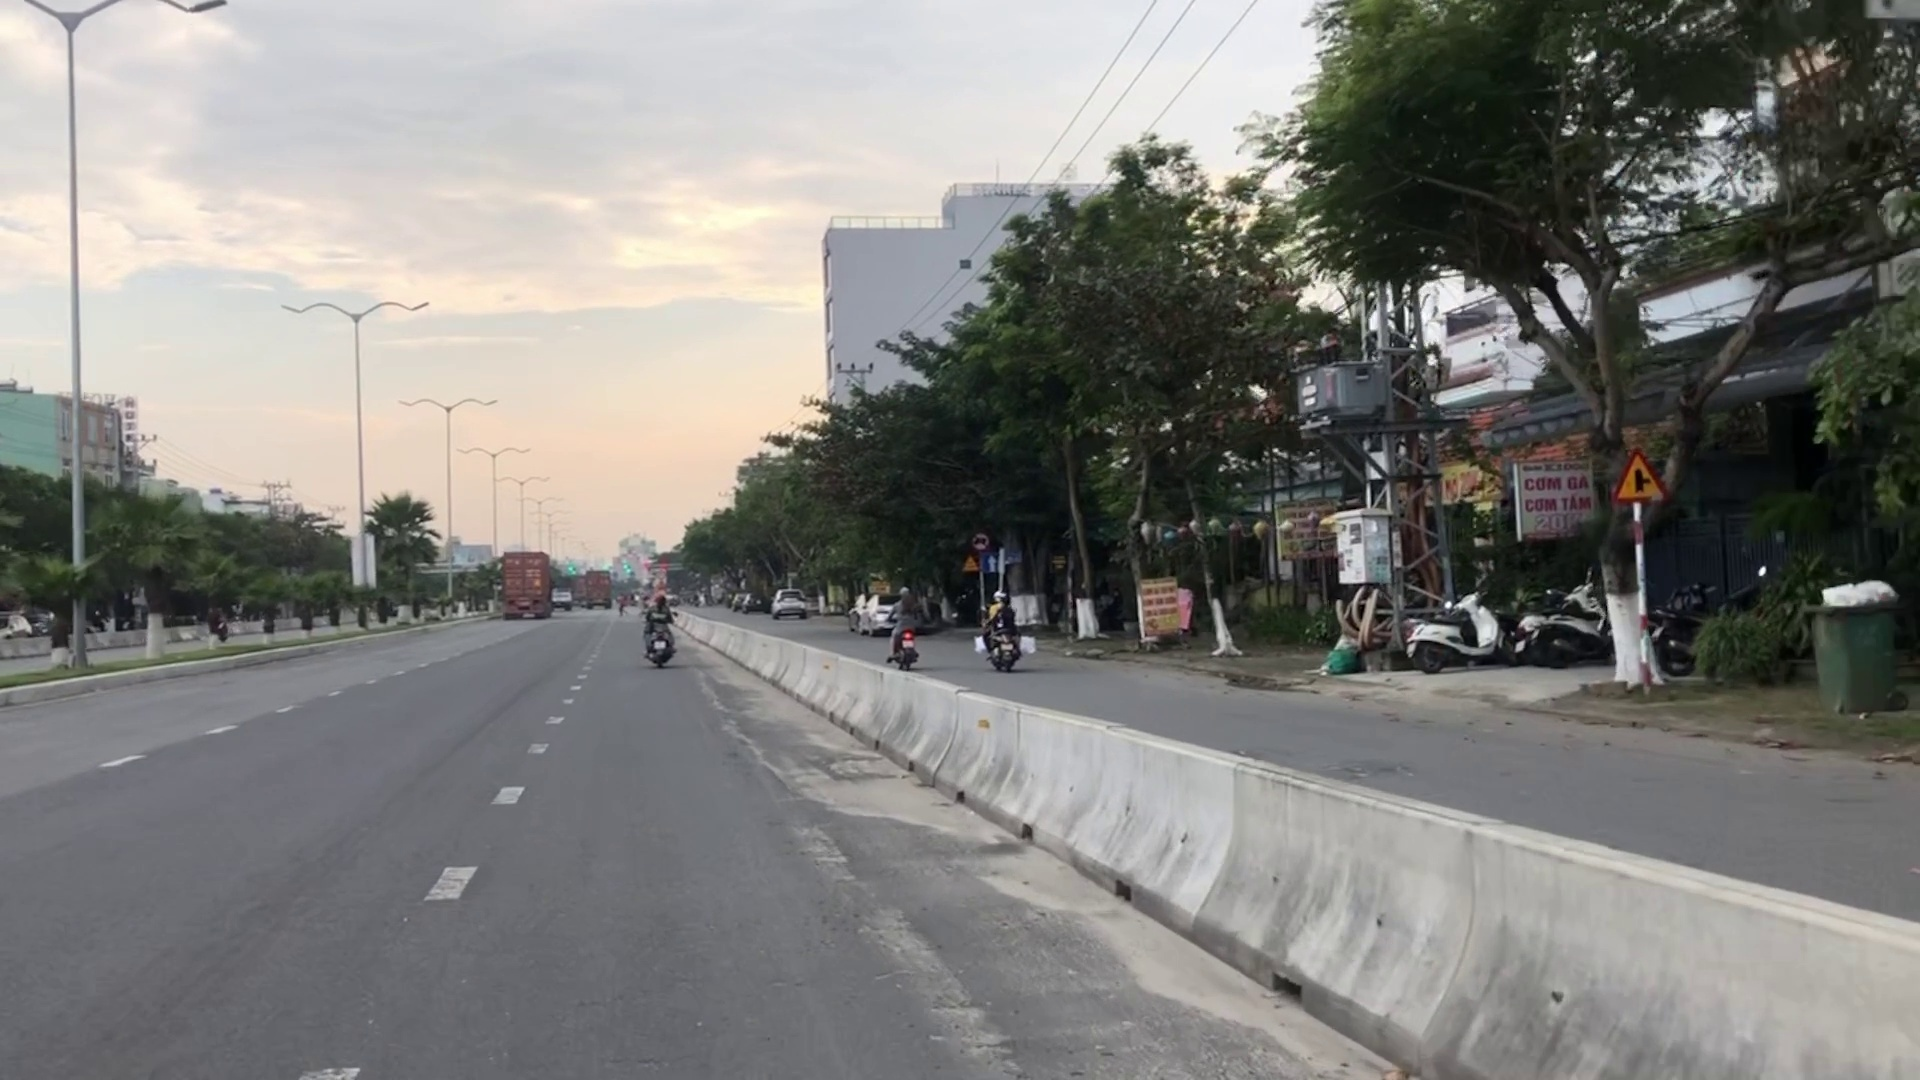Bien khac: (978, 553, 1000, 574), (957, 551, 977, 568), (973, 531, 989, 551)
Giao nhau voi duong khong uu tien: (1610, 448, 1668, 505)
